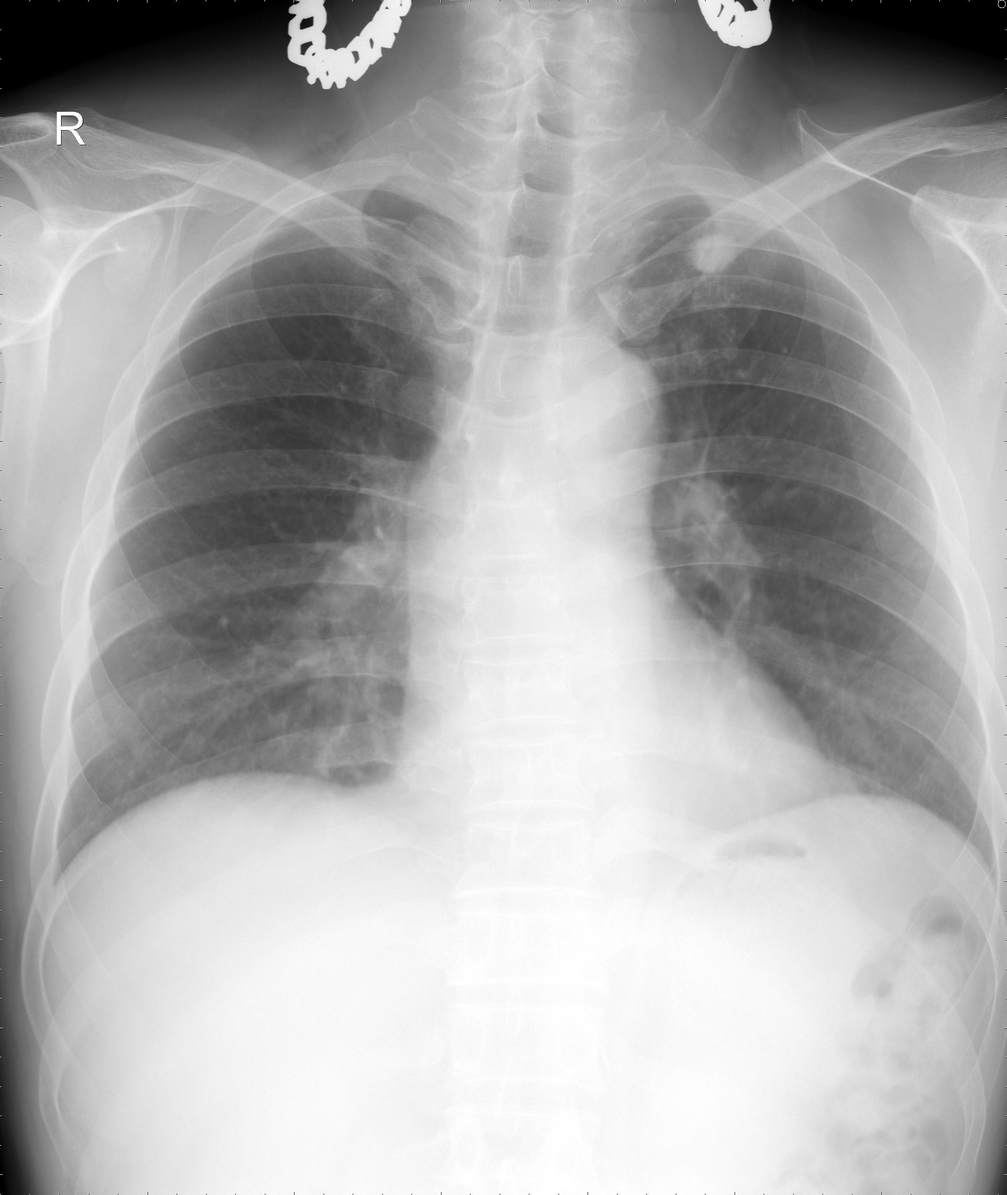Aortic enlargement: (532, 343, 668, 483)
Pleural thickening: (573, 194, 792, 324)
